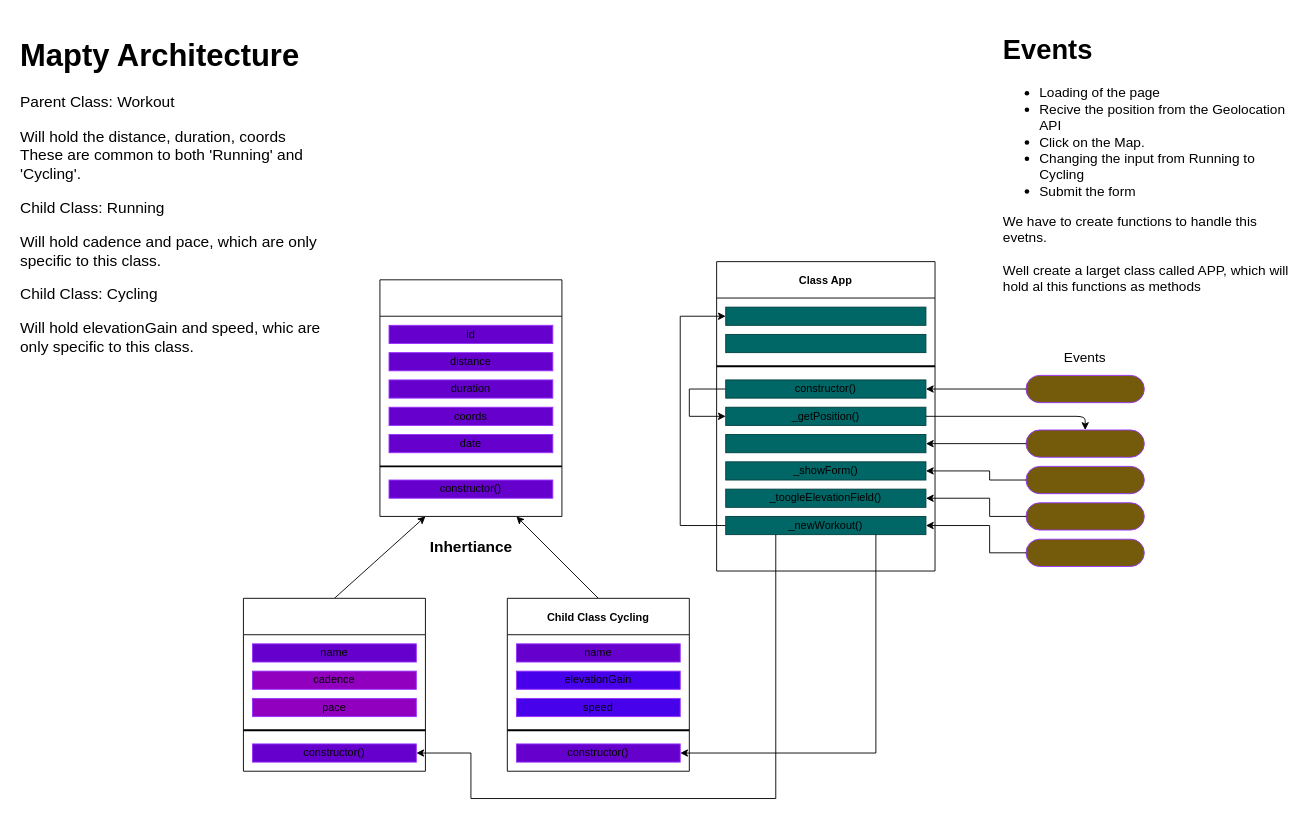
The diagram is 1314 pixels wide and 822 high, and some of its shapes have lost their labels. Each missing label, with the box of its shape:
_loadMpa(position): (725, 434, 926, 453)
Change Input: (1025, 502, 1144, 530)
Child Class Running: (243, 597, 425, 771)
Class Workout: (379, 279, 562, 516)
Click on map: (1025, 465, 1144, 494)
Load Page: (1025, 374, 1144, 403)
map: (725, 334, 926, 353)
Receive Position: (1025, 429, 1144, 457)
Submit form: (1025, 538, 1144, 566)
workouts: (725, 306, 926, 325)
